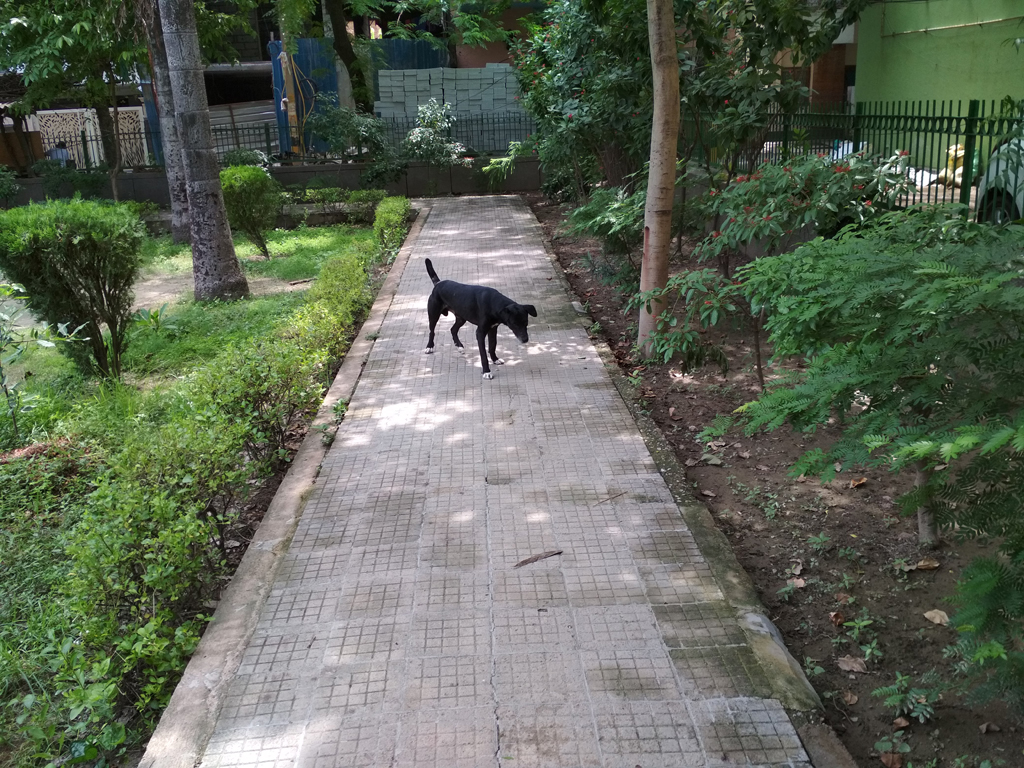dog: (424, 258, 537, 379)
